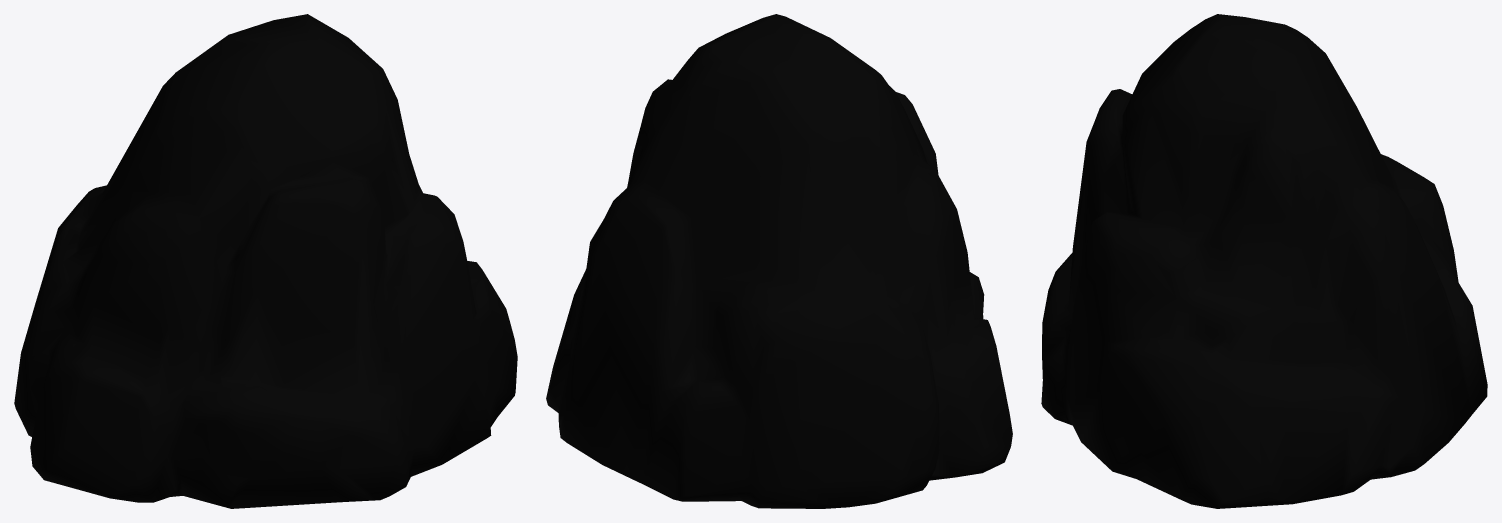
File: stylized_stone_2.glb
The picture shows the model from 3 angles, left to right: view 1: azimuth 30°, elevation 25°; view 2: azimuth 150°, elevation 25°; view 3: azimuth 270°, elevation 25°; orthographic projection. The views are drawn at different scales.
Visible parts, largest first — view 1: Stylized Rock 2; view 2: Stylized Rock 2; view 3: Stylized Rock 2.
Part boxes in pixels (left/top/right/bottom): Stylized Rock 2: left=14, top=14, right=517, bottom=508; Stylized Rock 2: left=546, top=14, right=1012, bottom=508; Stylized Rock 2: left=1041, top=14, right=1487, bottom=508.
Bounding box in the file's own units: 3.86 × 3.16 × 3.34.
1 material, 1 textured.
